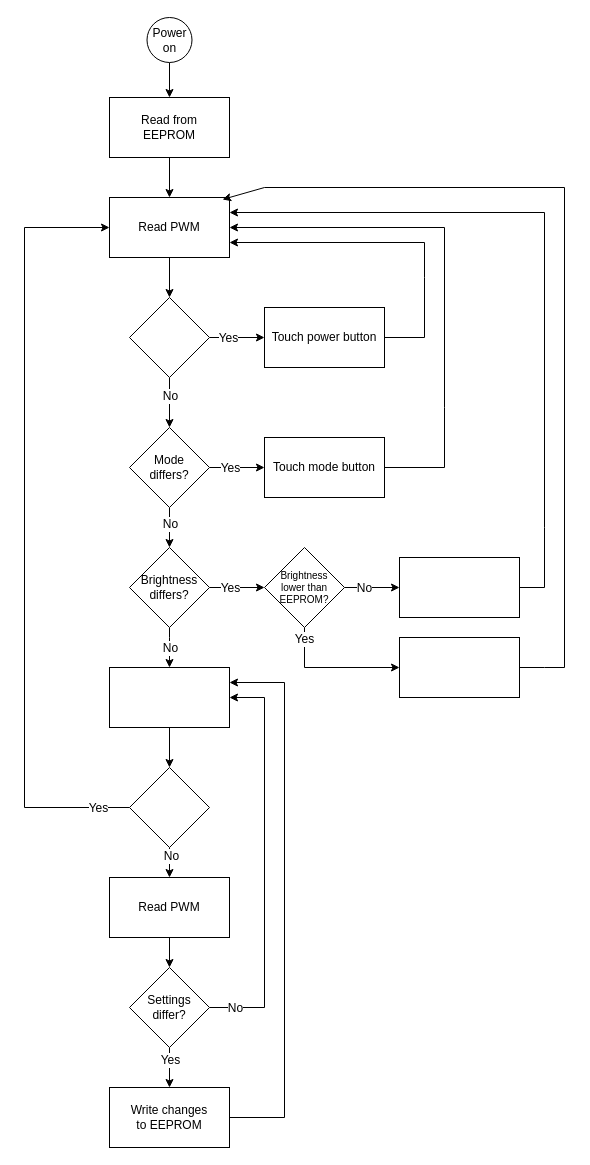
Image size: 590x1165. Some labels were removed from this diagram. Each missing label, with the box of its shape:
Command received?: (128, 766, 210, 848)
Power state differs?: (128, 296, 210, 378)
Read serial port: (108, 666, 230, 728)
Touch decrease brightness button: (398, 636, 520, 698)
Touch increase brightness button: (398, 556, 520, 618)
